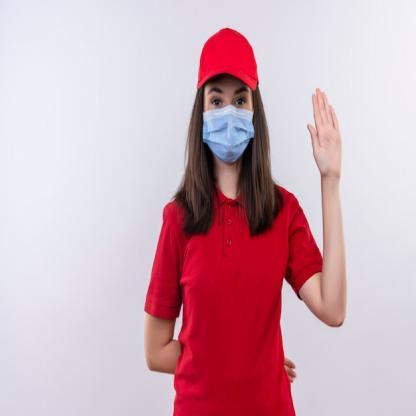stop: (304, 86, 344, 180)
